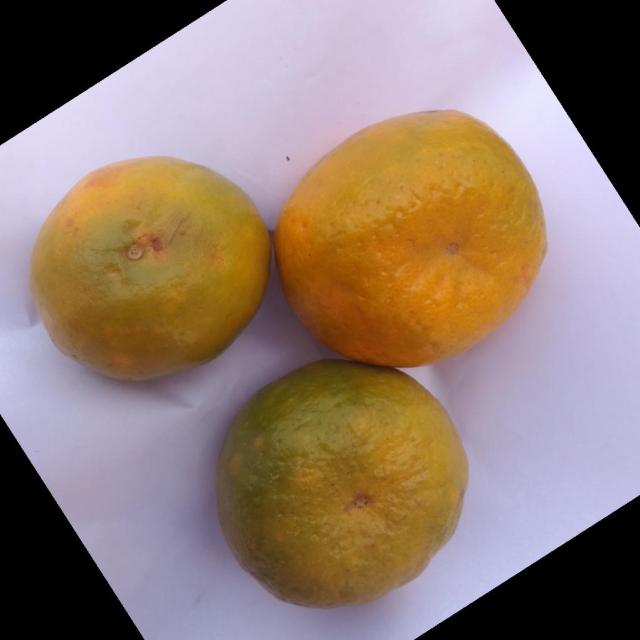fresh orange: (273, 108, 548, 368), (214, 357, 469, 609), (28, 154, 271, 382)
